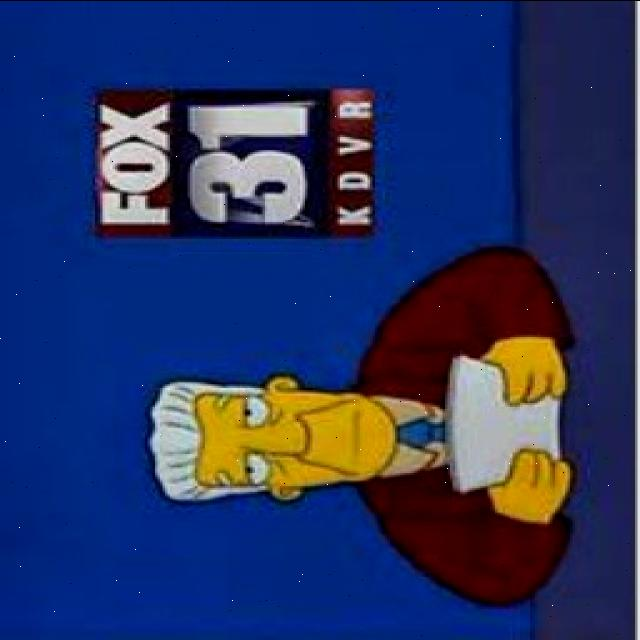Kent Brockman: (145, 374, 400, 506)
